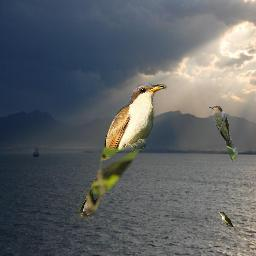Cuckoo: (76, 81, 168, 220), (208, 105, 238, 162), (218, 211, 237, 233)
